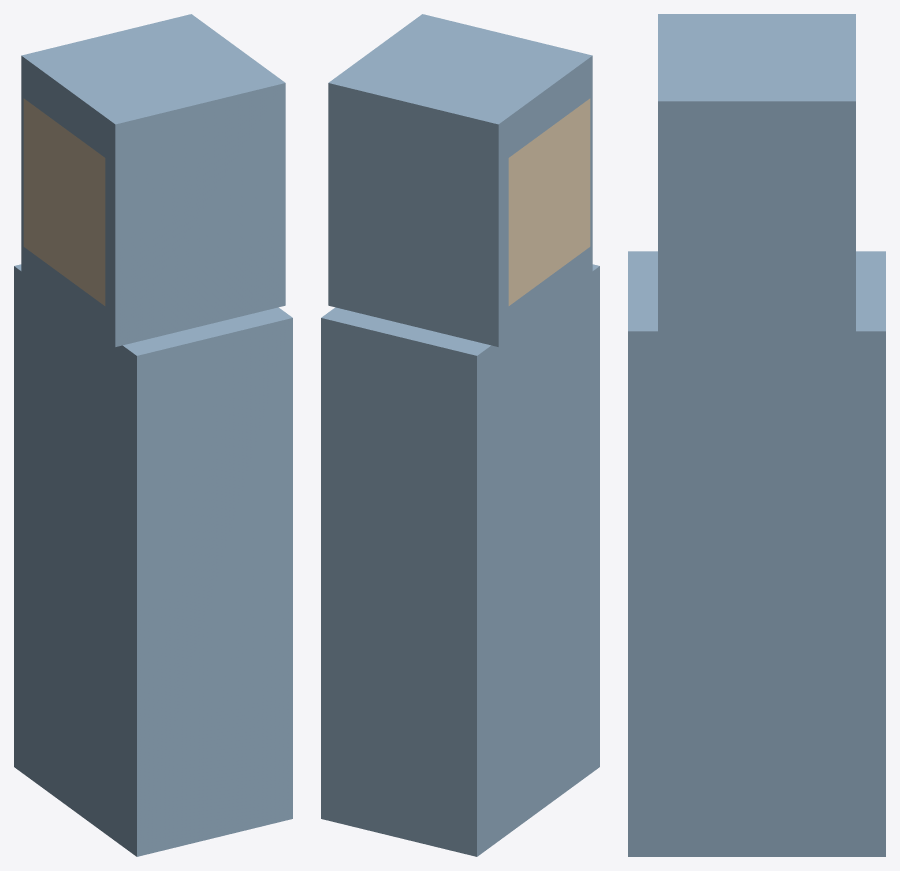
Rendered from being.gltf.
3 renders of one model, left to right at view 1: azimuth 30°, elevation 25°; view 2: azimuth 150°, elevation 25°; view 3: azimuth 270°, elevation 25°, orthographic. The views are drawn at different scales.
Parts seen in each view (by area): view 1: body, face; view 2: body, face; view 3: body.
Boxes of the visible parts, x1,y1,x2,y2 form: body: (14, 14, 292, 856); face: (23, 98, 105, 305); body: (321, 14, 599, 856); face: (508, 98, 590, 305); body: (628, 14, 885, 856).
Bounding box in the file's own units: 0.491 × 1.95 × 0.6.
